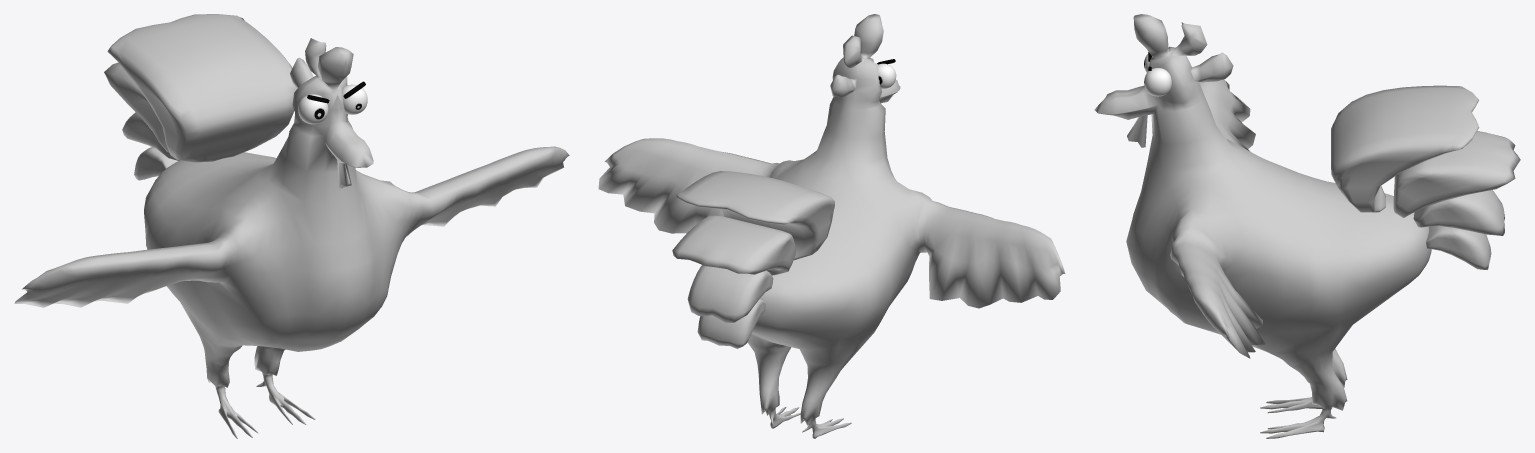
Rendered from Chicken_model.FBX.
3 views of the same model, side by side, from view 1: azimuth 30°, elevation 25°; view 2: azimuth 150°, elevation 25°; view 3: azimuth 270°, elevation 25° (orthographic). The views are drawn at different scales.
Parts seen in each view (by area): view 1: Box002, Box012, Box018; view 2: Box002; view 3: Box002, Box018.
Part boxes in pixels (left/top/right/bottom): Box002: left=14, top=14, right=569, bottom=438; Box012: left=298, top=94, right=328, bottom=124; Box018: left=342, top=84, right=367, bottom=114; Box002: left=598, top=14, right=1065, bottom=438; Box002: left=1094, top=14, right=1520, bottom=438; Box018: left=1144, top=68, right=1171, bottom=96.
Size of the model in its own units: 54.62 by 40.58 by 38.79.
